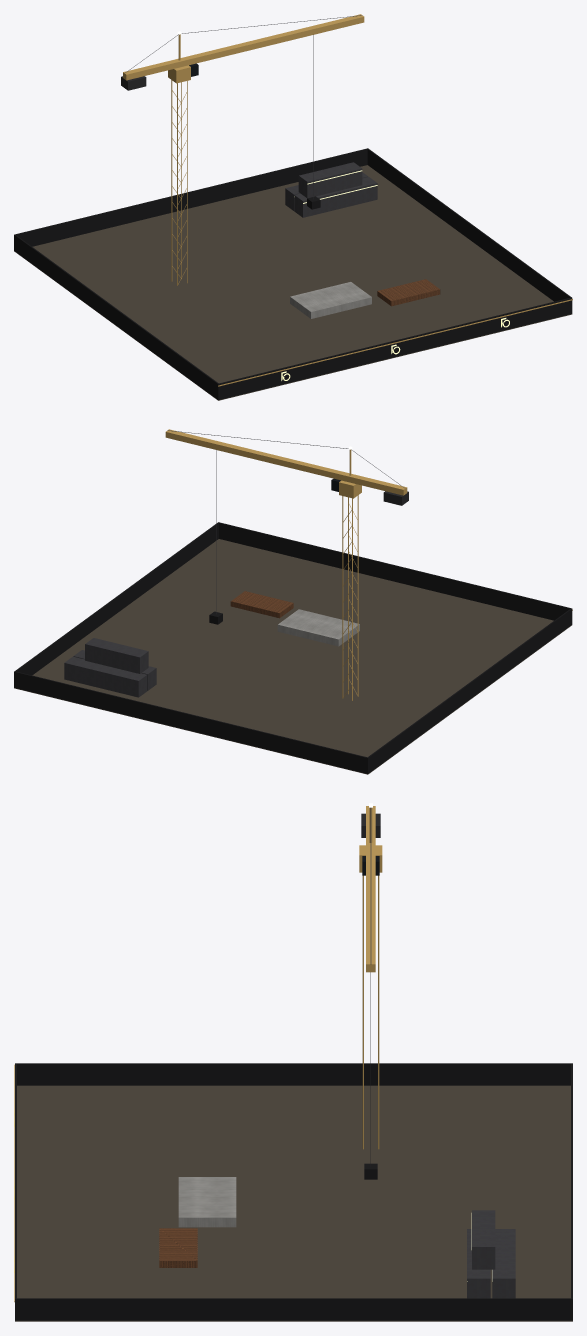
The model's file is plot_locked.glb.
3 renders of one model, top to bottom at view 1: azimuth 30°, elevation 25°; view 2: azimuth 150°, elevation 25°; view 3: azimuth 270°, elevation 25°, orthographic. The views are drawn at different scales.
Visible parts, largest first — view 1: gravel_plot_locked, black_metal_plot_locked, gold_paint_plot_locked, cladding_plot_locked, concrete_plot_locked, wood_plot_locked; view 2: gravel_plot_locked, black_metal_plot_locked, gold_paint_plot_locked, cladding_plot_locked, concrete_plot_locked, wood_plot_locked; view 3: gravel_plot_locked, black_metal_plot_locked, cladding_plot_locked, gold_paint_plot_locked, concrete_plot_locked, wood_plot_locked.
Part boxes in pixels (x1,y1,x2,y2): gravel_plot_locked: (14,165,572,400); black_metal_plot_locked: (14,148,572,399); gold_paint_plot_locked: (123,14,572,386); cladding_plot_locked: (285,162,377,217); concrete_plot_locked: (290,282,371,318); wood_plot_locked: (377,279,440,306); gravel_plot_locked: (14,539,571,774); black_metal_plot_locked: (14,522,572,773); gold_paint_plot_locked: (165,429,572,700); cladding_plot_locked: (64,638,156,697); concrete_plot_locked: (277,609,359,646); wood_plot_locked: (230,591,293,618); gravel_plot_locked: (15,1085,572,1321); black_metal_plot_locked: (15,1063,572,1320); cladding_plot_locked: (467,1210,515,1298); gold_paint_plot_locked: (14,806,382,1302); concrete_plot_locked: (178,1177,236,1227); wood_plot_locked: (159,1228,197,1267).
Bounding box in the file's own units: 58.1 × 39.3 × 58.1.
11 materials, 3 textured.
